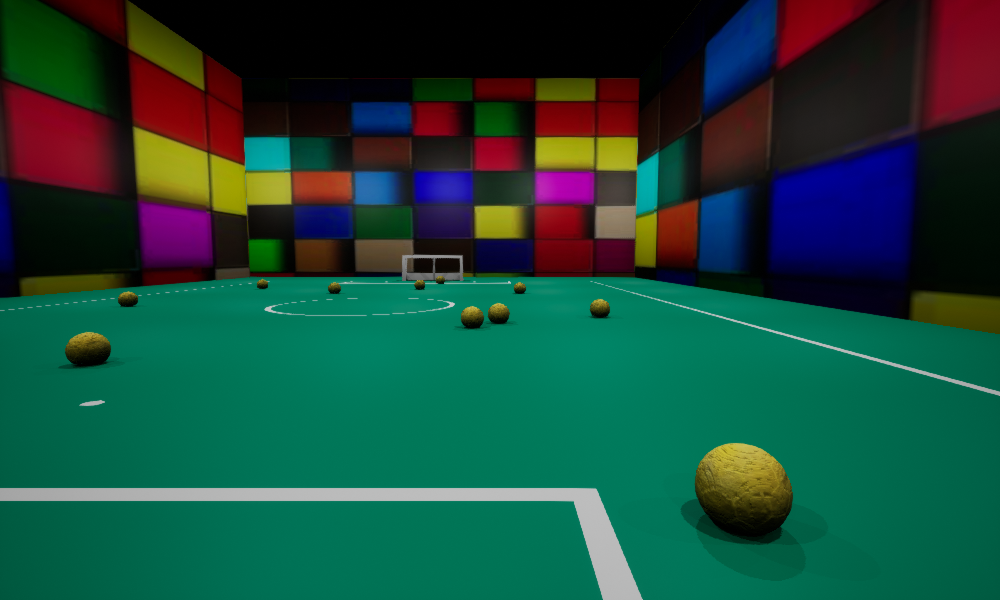b: (695, 443, 792, 534), (65, 332, 110, 365), (461, 306, 483, 327), (488, 303, 509, 322), (590, 299, 609, 317), (118, 291, 137, 306), (328, 282, 340, 293), (514, 282, 525, 292), (257, 279, 267, 288), (414, 280, 424, 288), (436, 276, 444, 283)
g: (402, 255, 463, 280)
